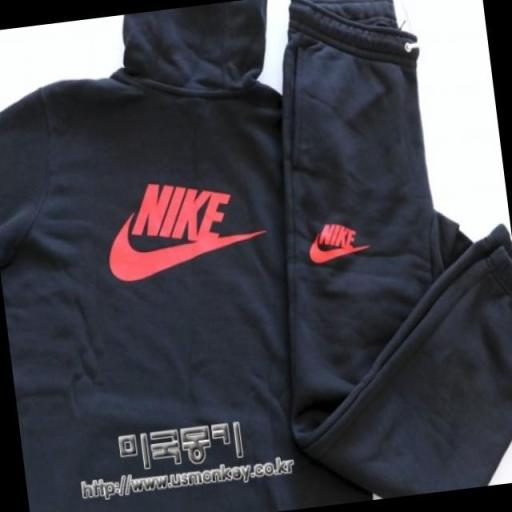Nike: (102, 214, 270, 286), (126, 174, 236, 248)
